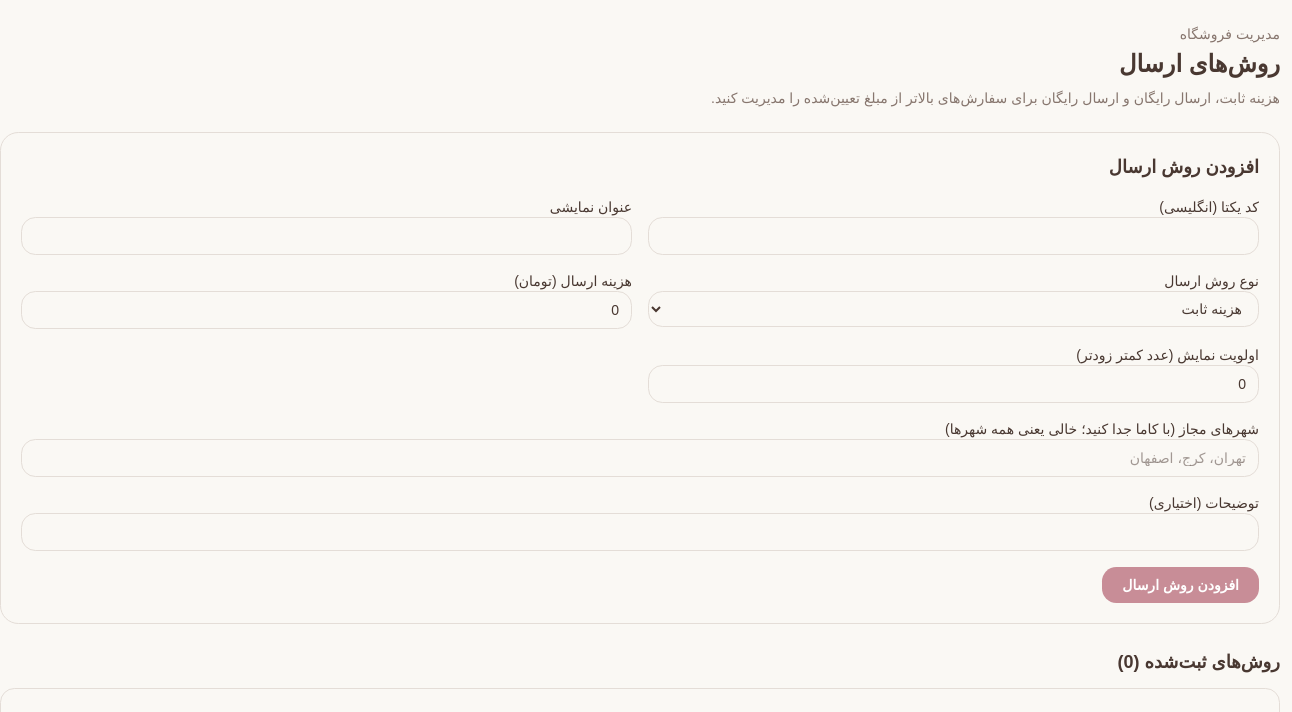
Test: admin shipping page › creates a method and splits the city list on Persian commas
The width and height of the screenshot is (1292, 712).
Type " Post " into the field labelled "کد یکتا (انگلیسی)". click: (954, 236)
box: [648,217,1259,255]
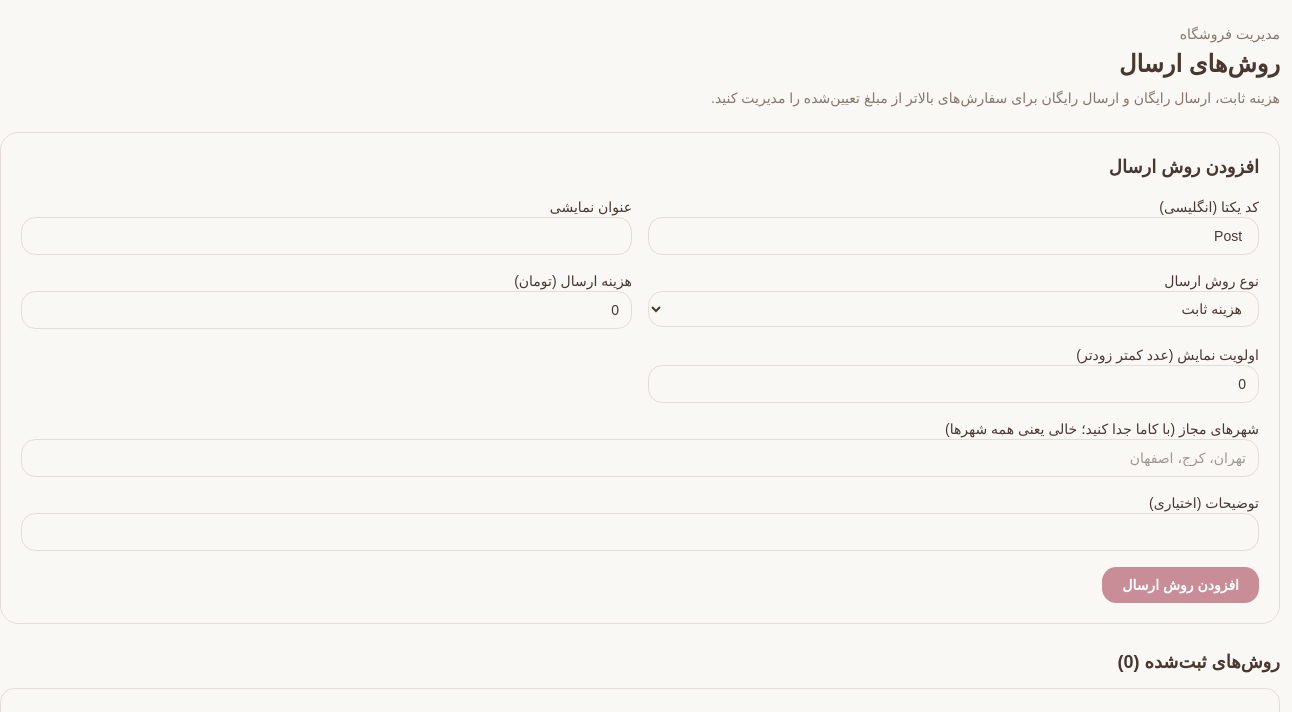
Type "پست" into the field labelled "عنوان نمایشی". click: (326, 236)
box: [21,217,632,255]
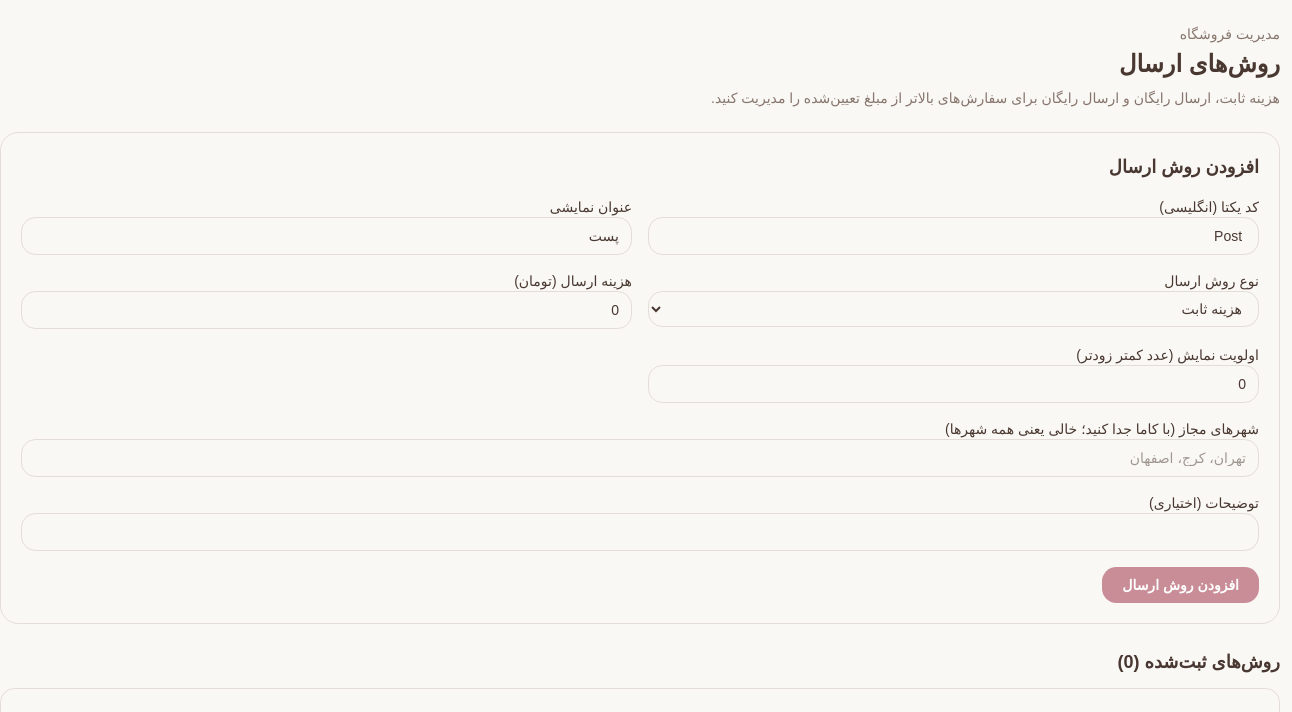
Replace the text in the number field labelled "هزینه ارسال (تومان)" with "45000". click: (326, 310)
box: [21,291,632,329]
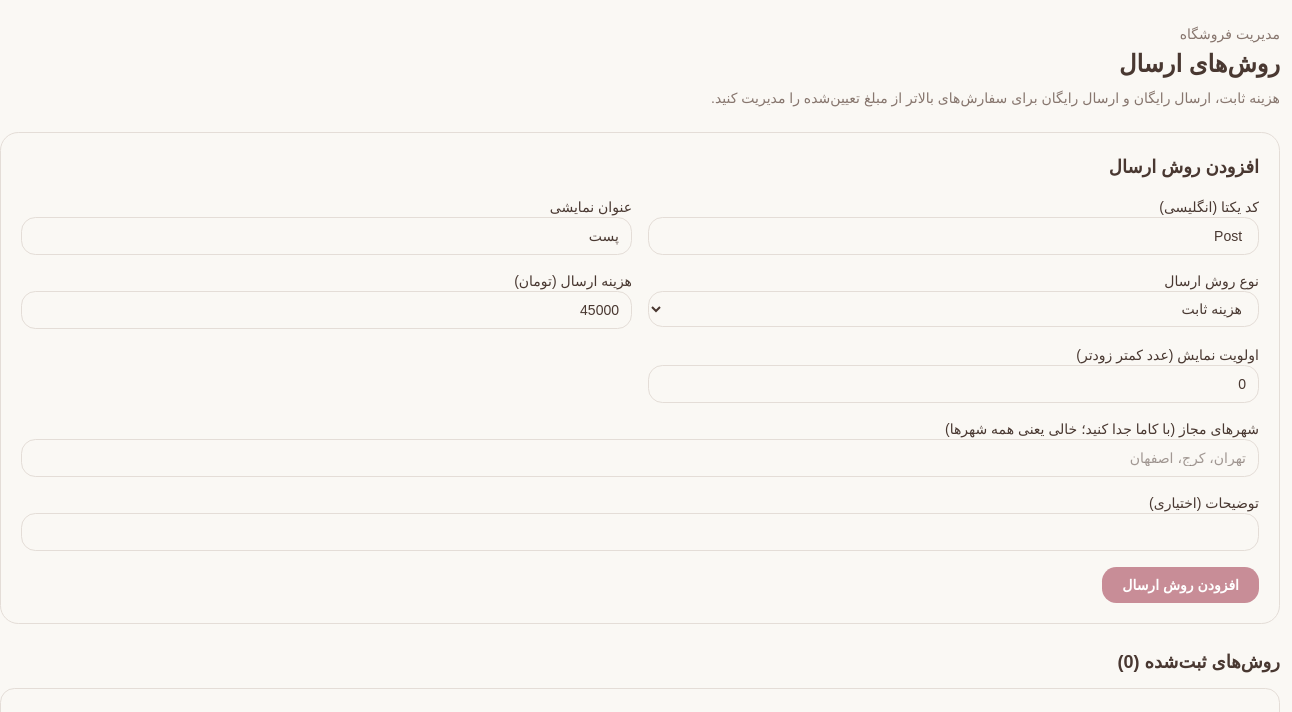
Type "تهران، کرج" into the field labelled "شهرهای مجاز (با کاما جدا کنید؛ خالی یعنی همه شهرها)". click: (640, 458)
box: [21,439,1259,477]
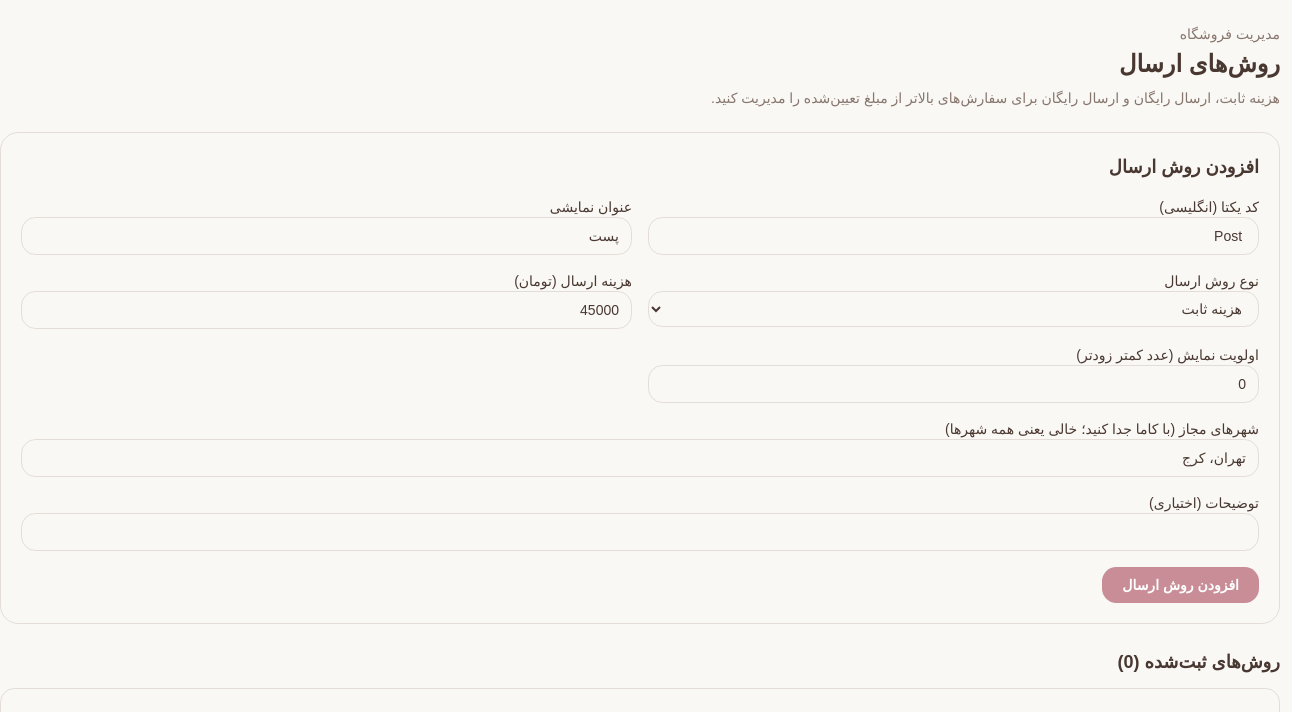
Submit the form from the button "افزودن روش ارسال", box [1102,567,1259,603]
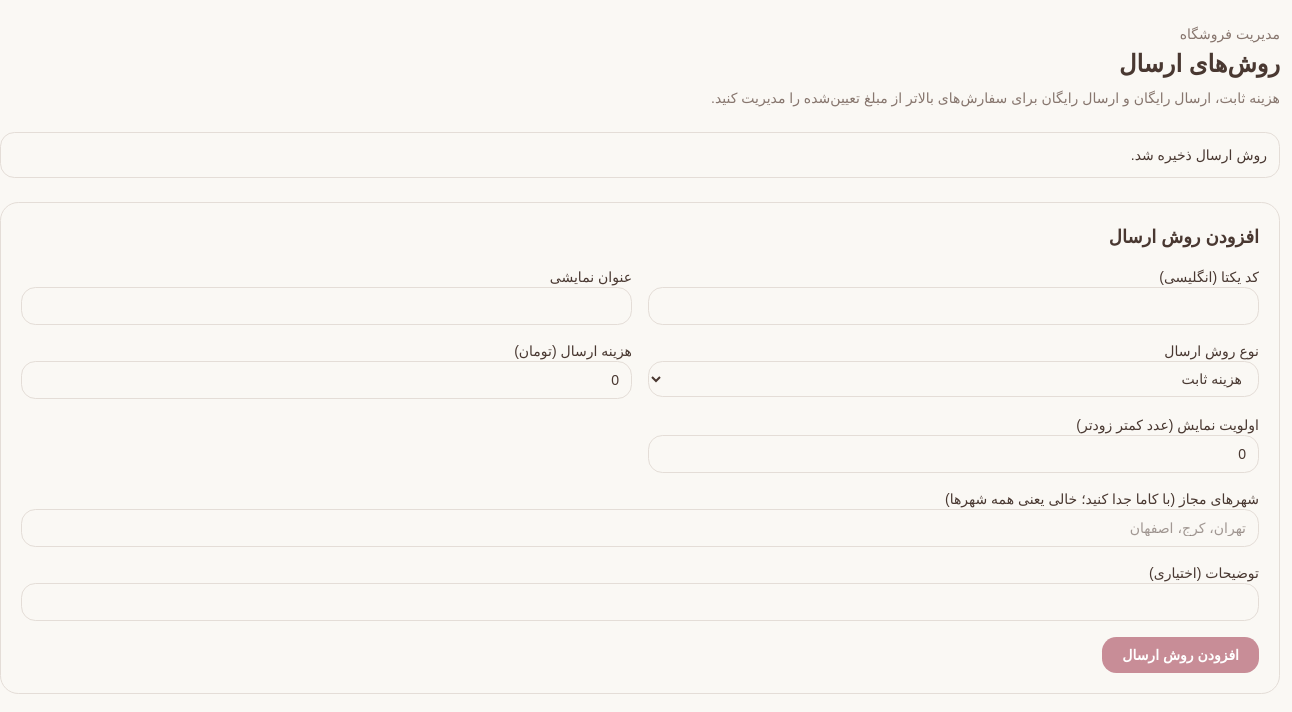
Expected: the message reads "روش ارسال ذخیره شد.", [1131,147,1267,163]
